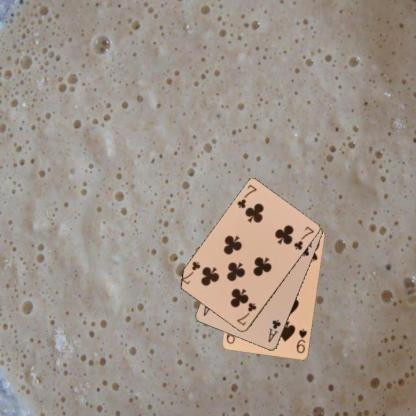7c: (234, 182, 258, 210), (234, 300, 258, 327)
9s: (294, 326, 309, 355)
Ac: (266, 317, 282, 344)
